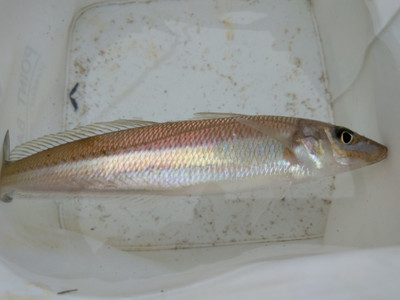kiss: (3, 111, 393, 200)
